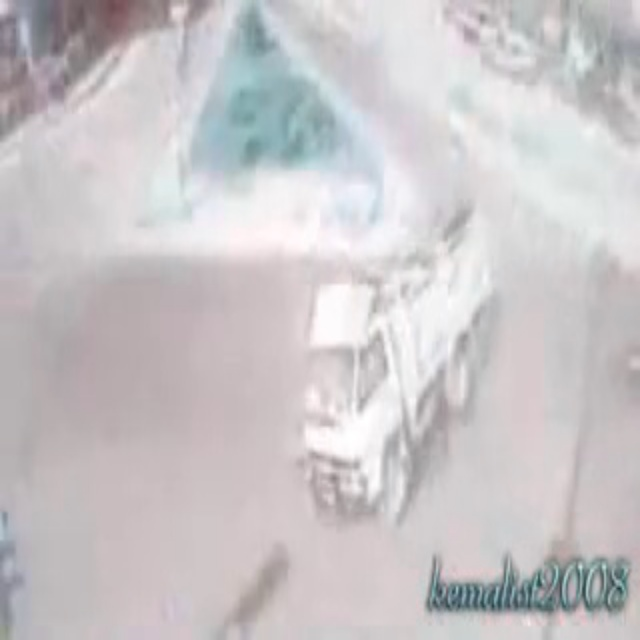acc: (292, 207, 495, 525)
